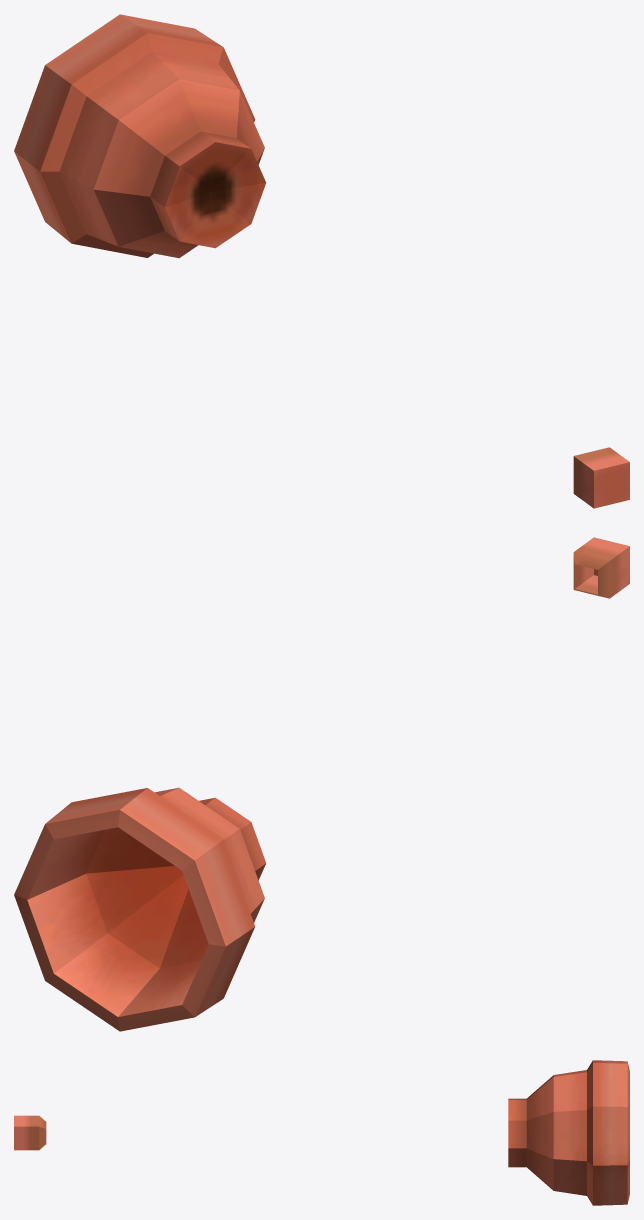
The model's file is Chameleon_plungerBow_arrow.obj.
The picture shows the model from 3 angles, top to bottom: view 1: azimuth 30°, elevation 25°; view 2: azimuth 150°, elevation 25°; view 3: azimuth 270°, elevation 25°; orthographic projection. The views are drawn at different scales.
Visible parts, largest first — view 1: Chameleon_plungerBow_tri [arrow]; view 2: Chameleon_plungerBow_tri [arrow]; view 3: Chameleon_plungerBow_tri [arrow].
Part boxes in pixels (x1,y1,x2,y2): Chameleon_plungerBow_tri [arrow]: (14,14,629,508); Chameleon_plungerBow_tri [arrow]: (14,537,629,1031); Chameleon_plungerBow_tri [arrow]: (14,1060,629,1205).
Bounding box in the file's own units: 0.2544 × 0.2544 × 1.01.
1 material, 1 textured.
